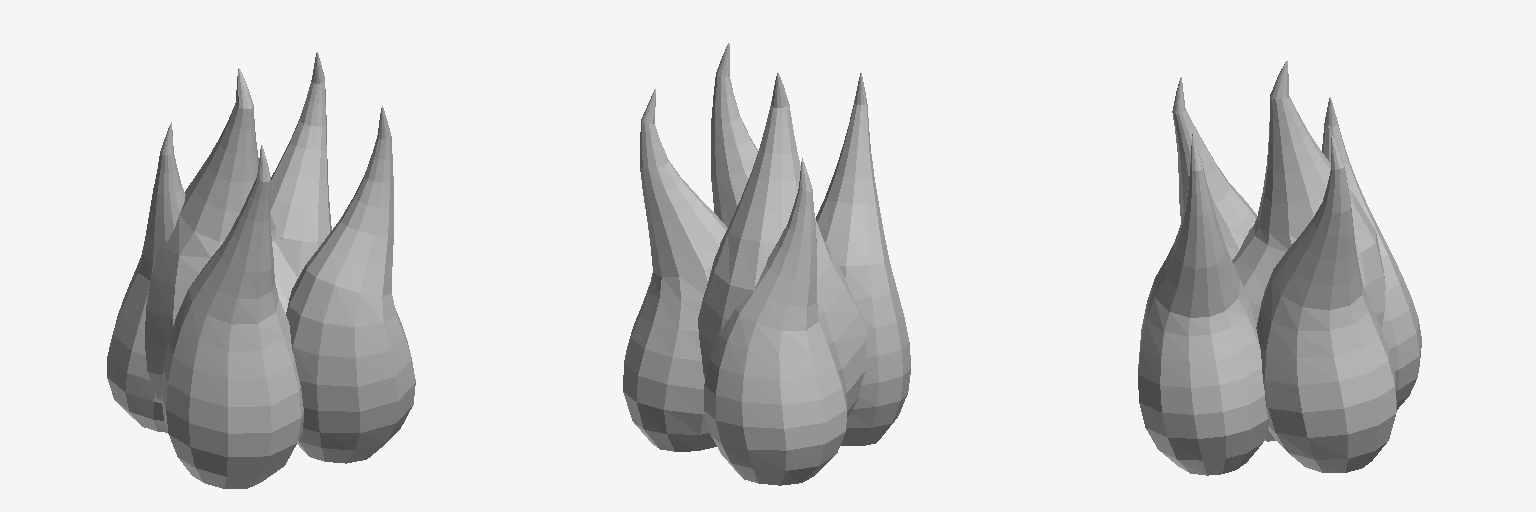
Rendered from fire_000026.obj.
The picture shows the model from 3 angles: view 1: azimuth 30°, elevation 25°; view 2: azimuth 150°, elevation 25°; view 3: azimuth 270°, elevation 25°; orthographic projection.
Visible parts, largest first — view 1: flame_NurbsPath.015; view 2: flame_NurbsPath.015; view 3: flame_NurbsPath.015.
Boxes of the visible parts, box(x1,y1,x2,y2) form: flame_NurbsPath.015: box(107, 52, 415, 488); flame_NurbsPath.015: box(623, 43, 910, 485); flame_NurbsPath.015: box(1138, 61, 1421, 475).
Bounding box in the file's own units: 0.7438 × 1.2 × 0.813.